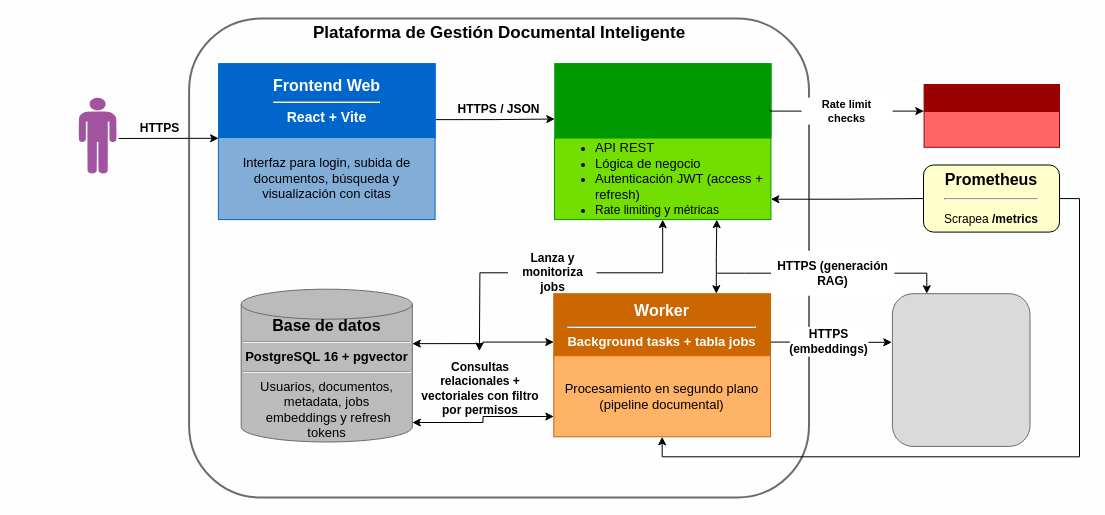
Image size: 1105x515. Some labels were removed from this diagram. Each missing label, with the centre of its shape:
Backend API Python + FastAPI: point 662,100
Rate limiting contadores temporales: point 991,128
Redis: point 991,98
Servicio IA OpenAI API Embeddings y generación de respuestas (LLM): point 960,369
Usuario Usuario autenticado que gestiona documentos y realiza búsquedas: point 97,135
